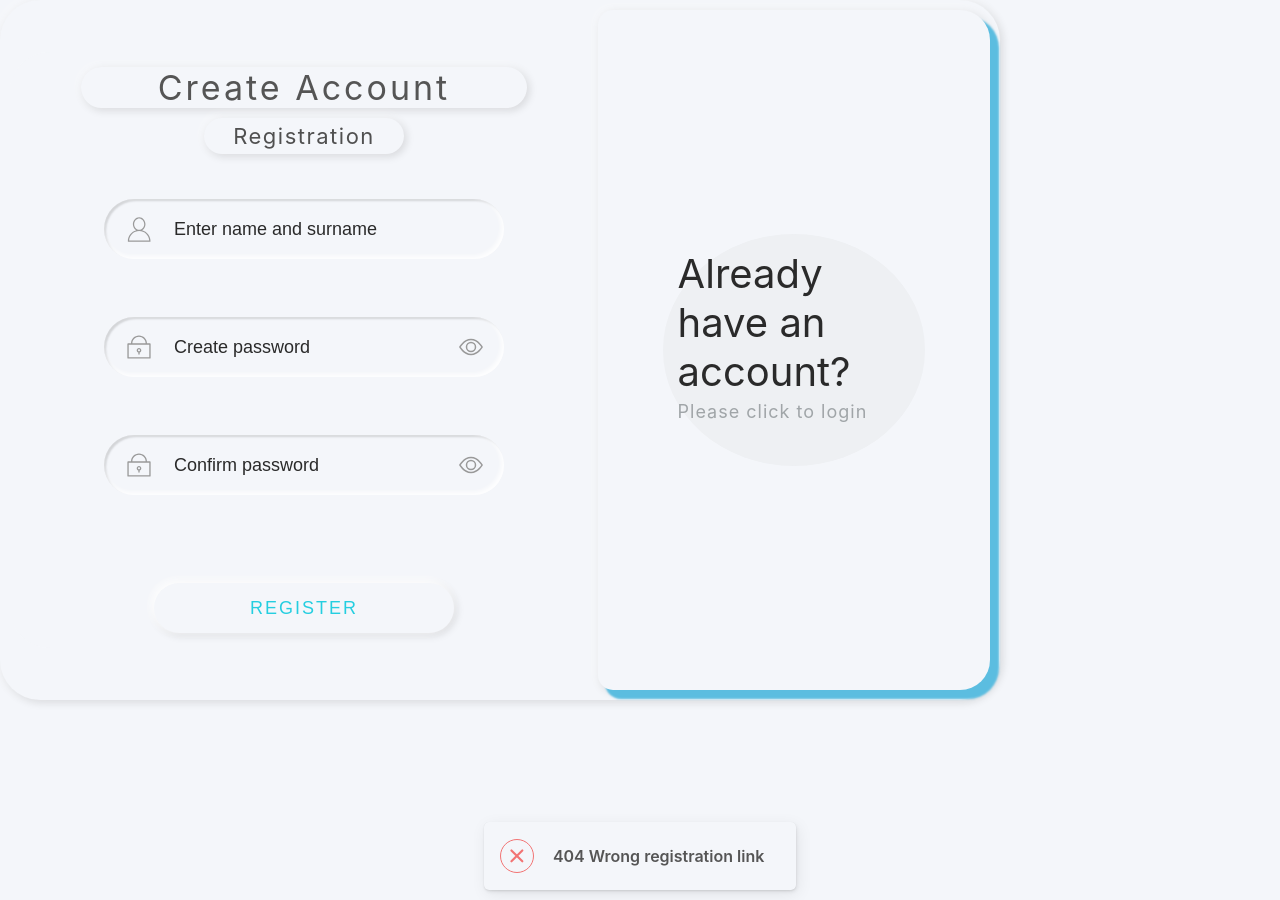
Test case: Register tests › error in password confirm
This screenshot has width=1280, height=900.
In the password field labelled "Confirm password": (312, 465) [164,434,459,496], type "123"
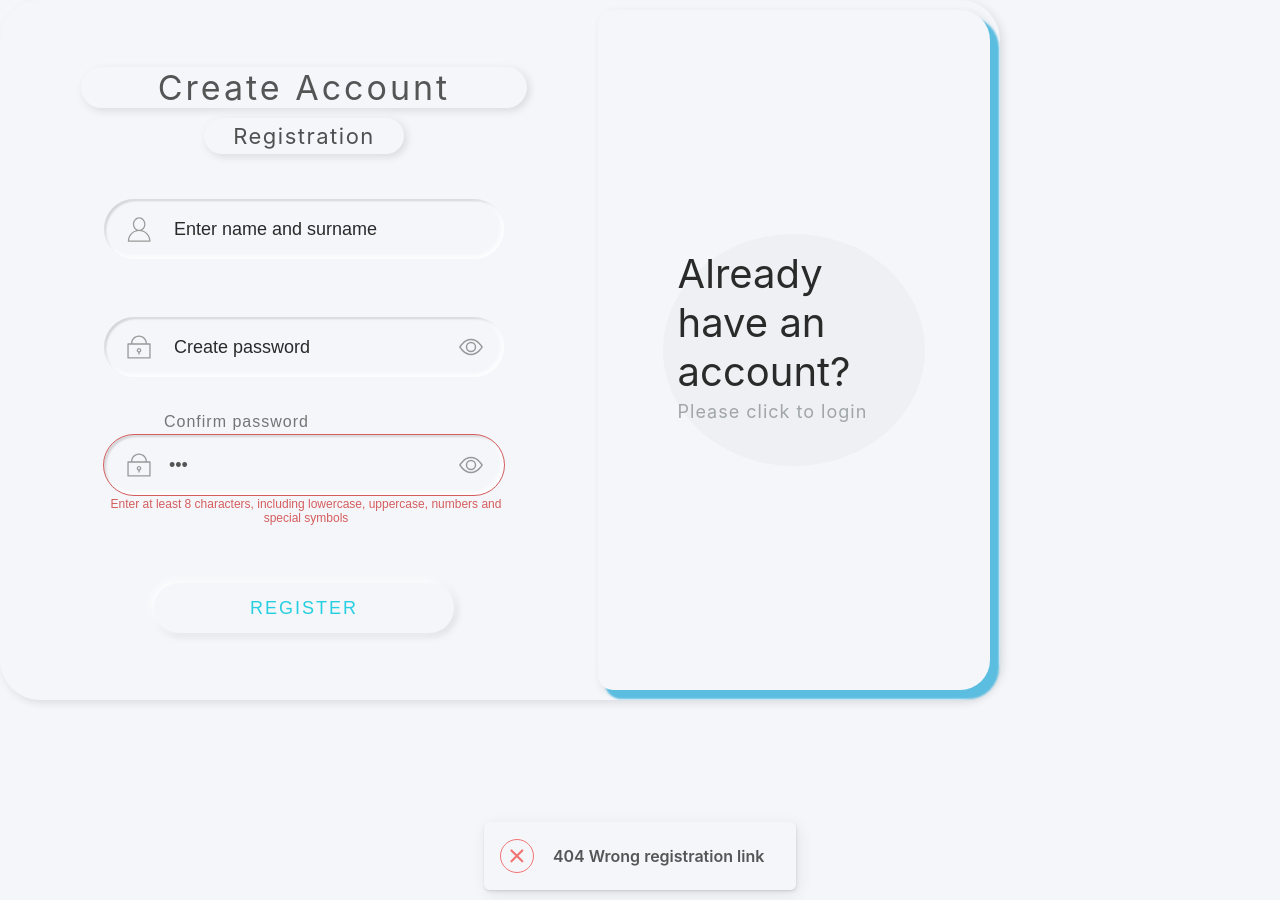
Now the text "Enter at least 8 characters, including lowercase, uppercase, numbers and special symbols" is shown, box [110,497,501,525]
